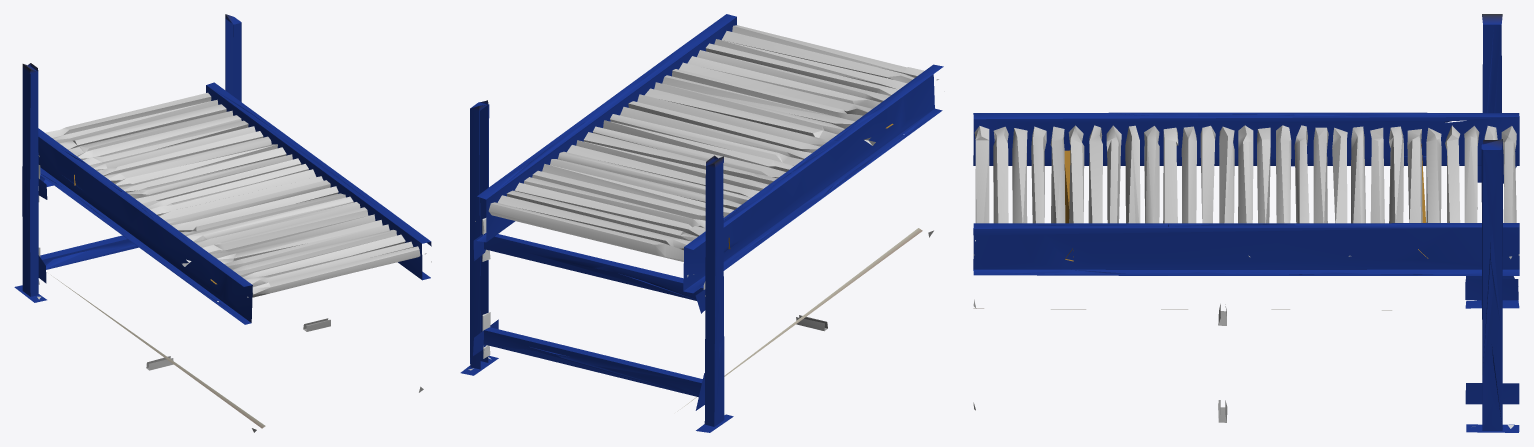
Rendered from conveyor-lo.glb.
The picture shows the model from 3 angles, left to right: view 1: azimuth 30°, elevation 25°; view 2: azimuth 150°, elevation 25°; view 3: azimuth 270°, elevation 25°; orthographic projection. The views are drawn at different scales.
Visible parts, largest first — view 1: body; view 2: body; view 3: body.
Part boxes in pixels (x1,y1,x2,y2): body: [14, 14, 431, 432]; body: [460, 14, 943, 432]; body: [973, 14, 1519, 432].
Bounding box in the file's own units: 1.15 × 1.16 × 2.
